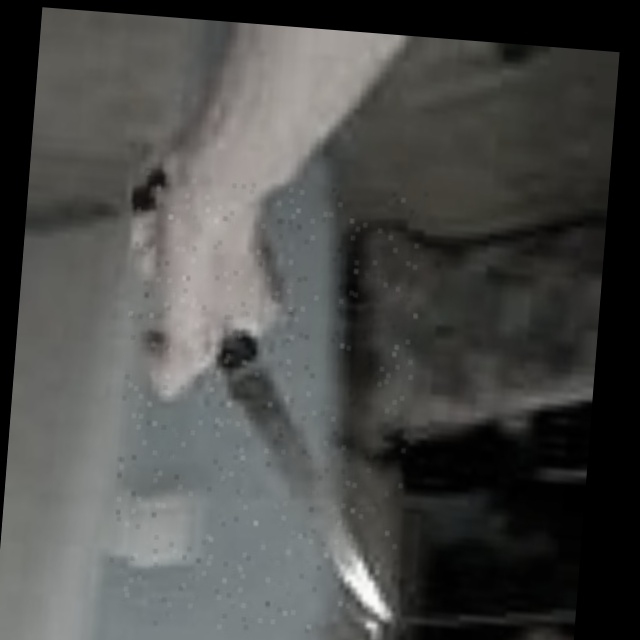Sharp-Object: (106, 171, 427, 640)
